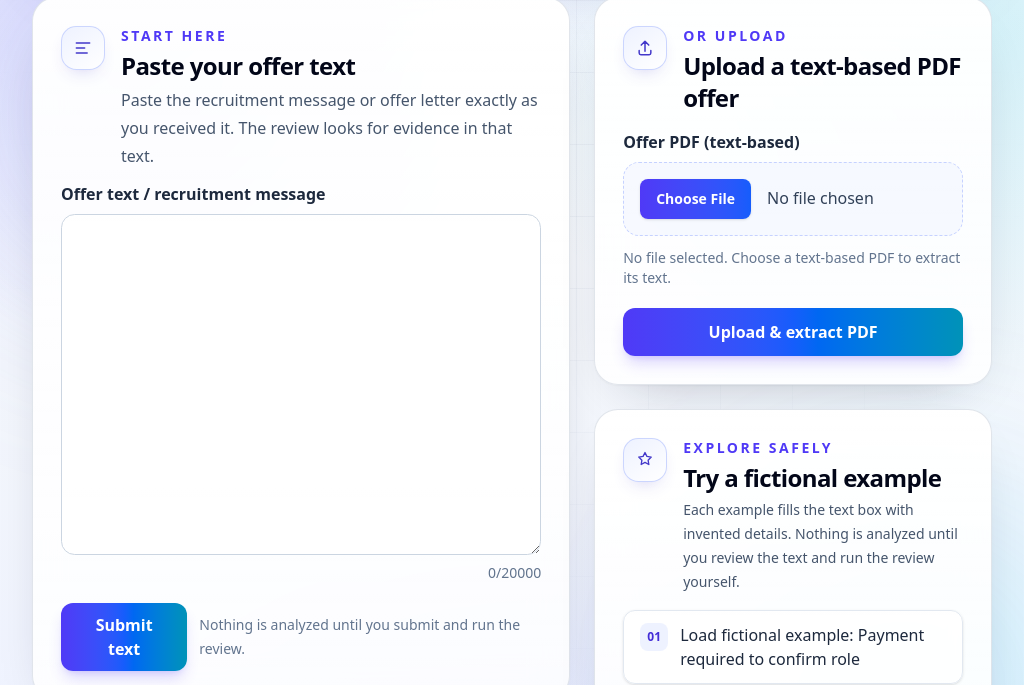
it: OfferShield review page › reports clipboard failure without losing the draft
(page scrolled)
Step 1. Type "To confirm your acceptance, please pay the registration fee." into the text box labelled "Offer text / recruitment message" → (301, 385), box [61,214,541,555]
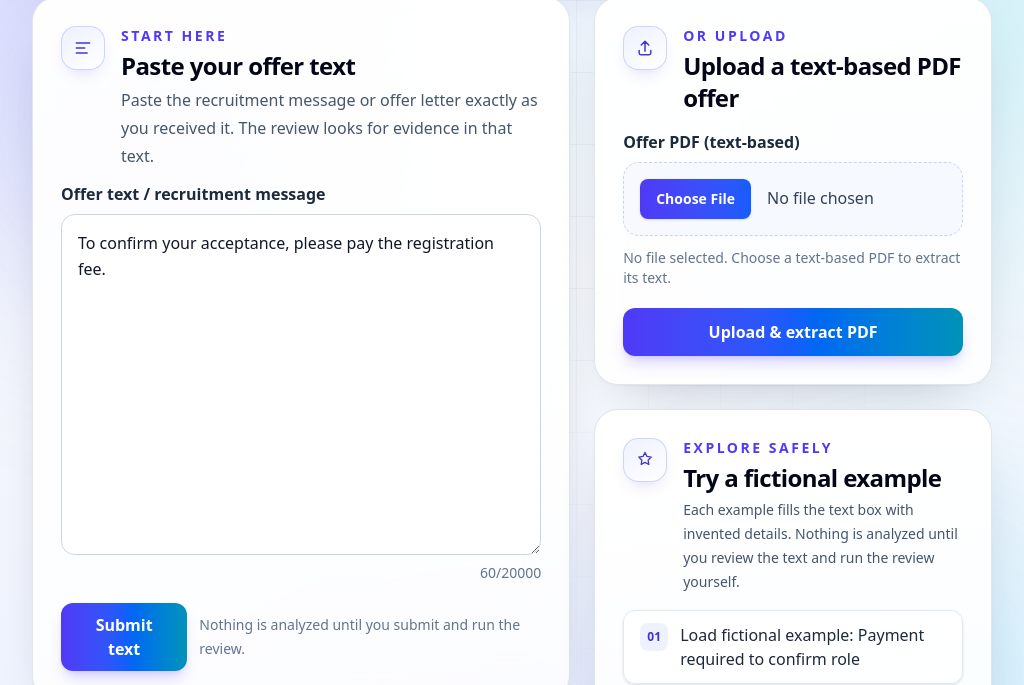
Step 2. Click the button "Submit text" → (124, 637), box [61,603,187,671]
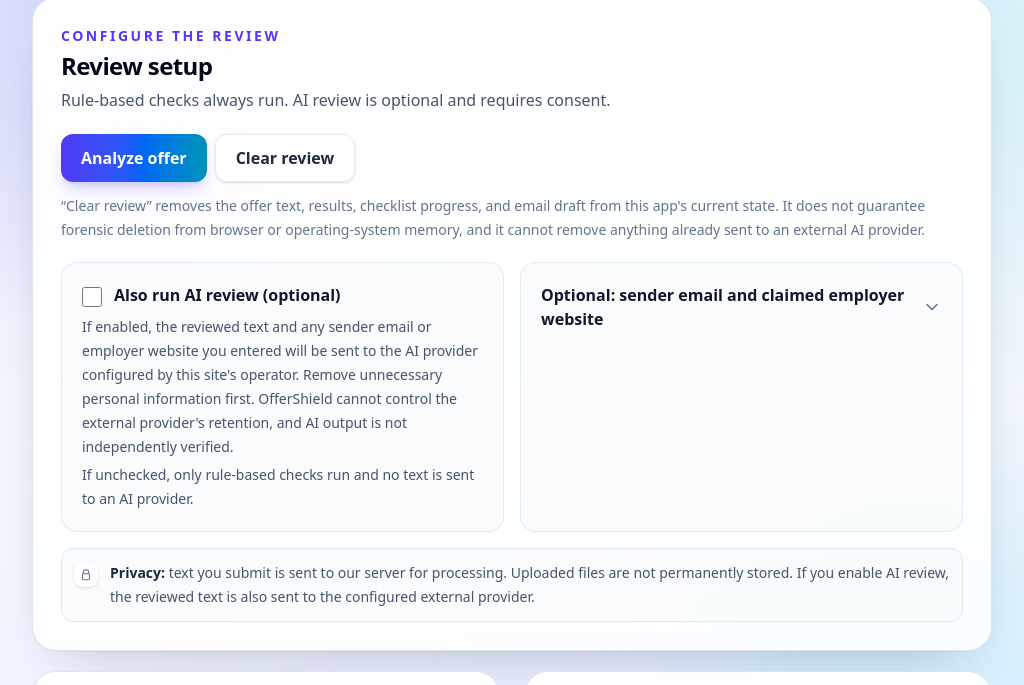
Result: the button "Analyze offer" is shown
Step 3. Click the button "Analyze offer" → (134, 158), box [61,134,207,182]
(page scrolled)
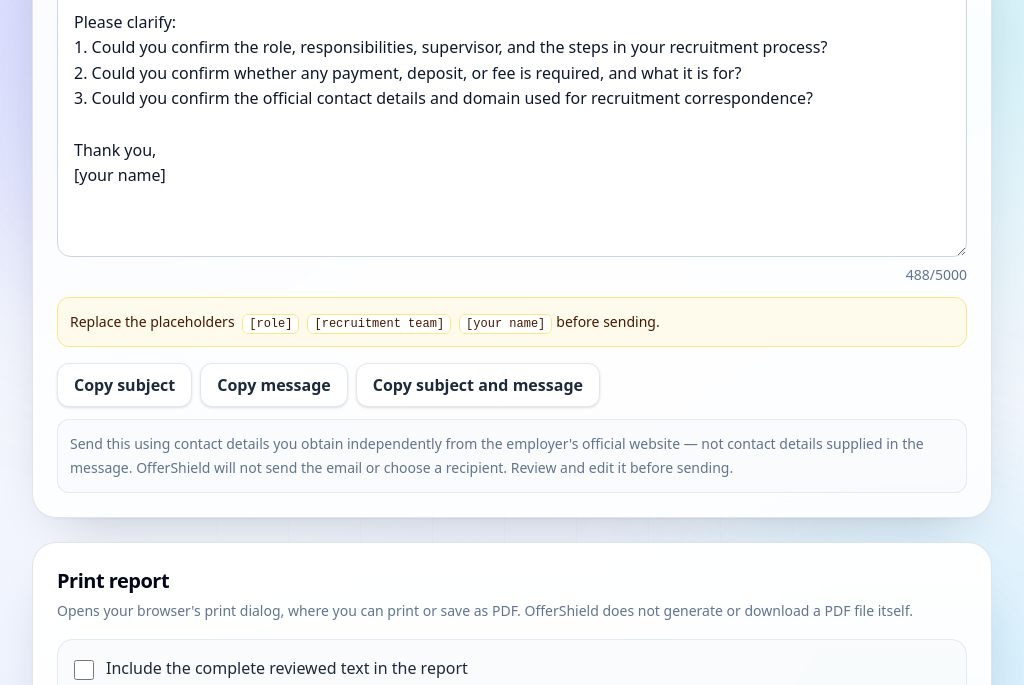
Step 4. Click the button "Copy message" → (274, 385), box [200,363,348,407]
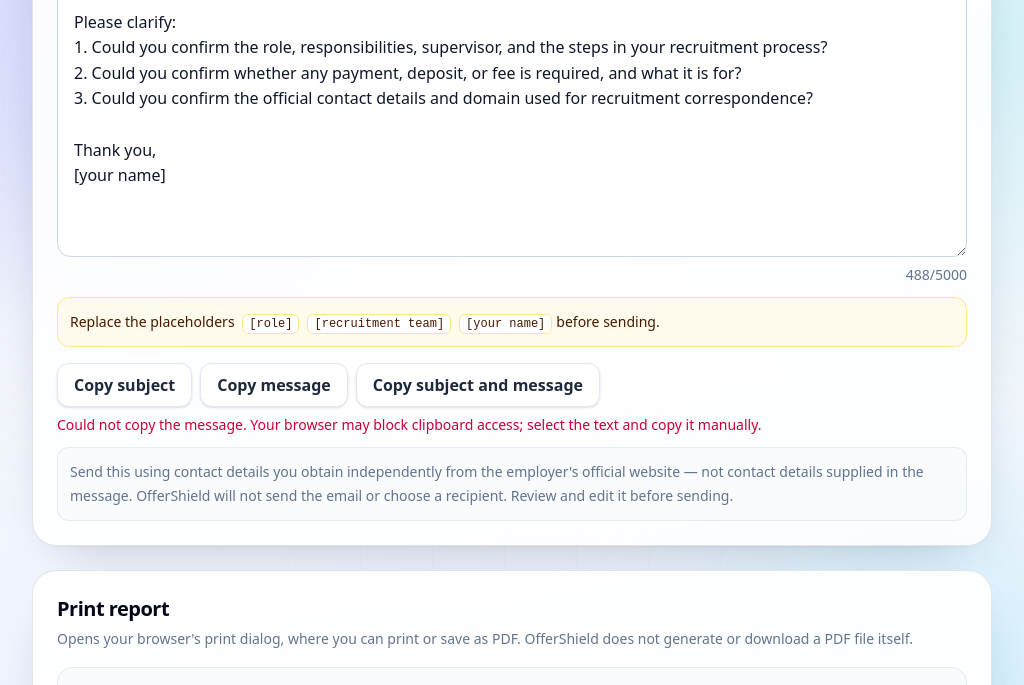
Result: the text "Could not copy the message" is shown at [57,415,762,434]
